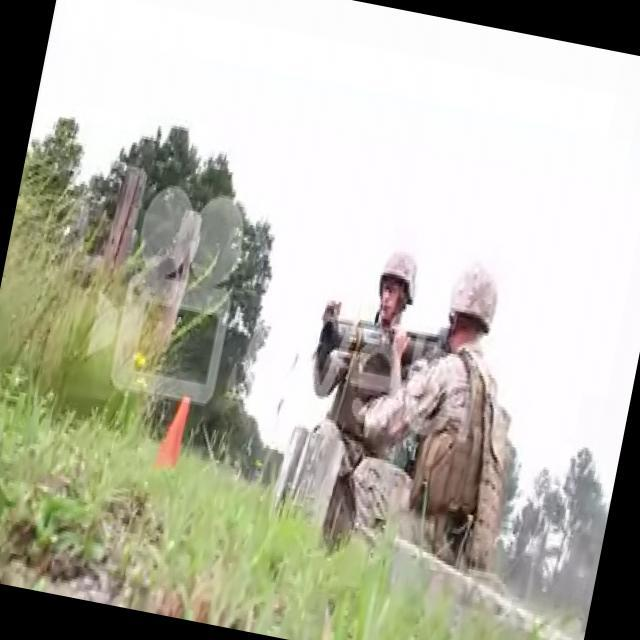rocket: (314, 305, 424, 382)
